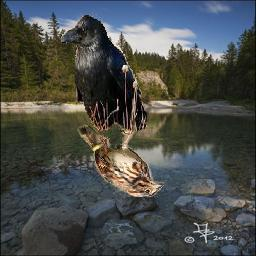Crow: (61, 13, 148, 133)
Sparrow: (78, 121, 165, 197)
